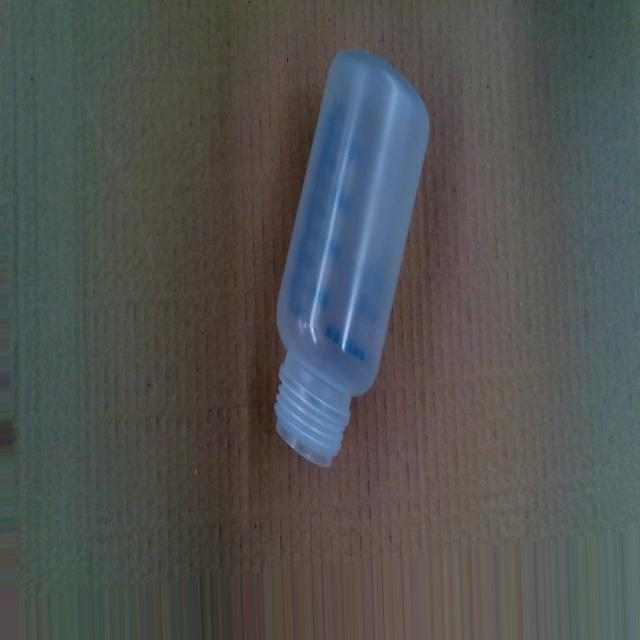bottle: (266, 42, 432, 477)
